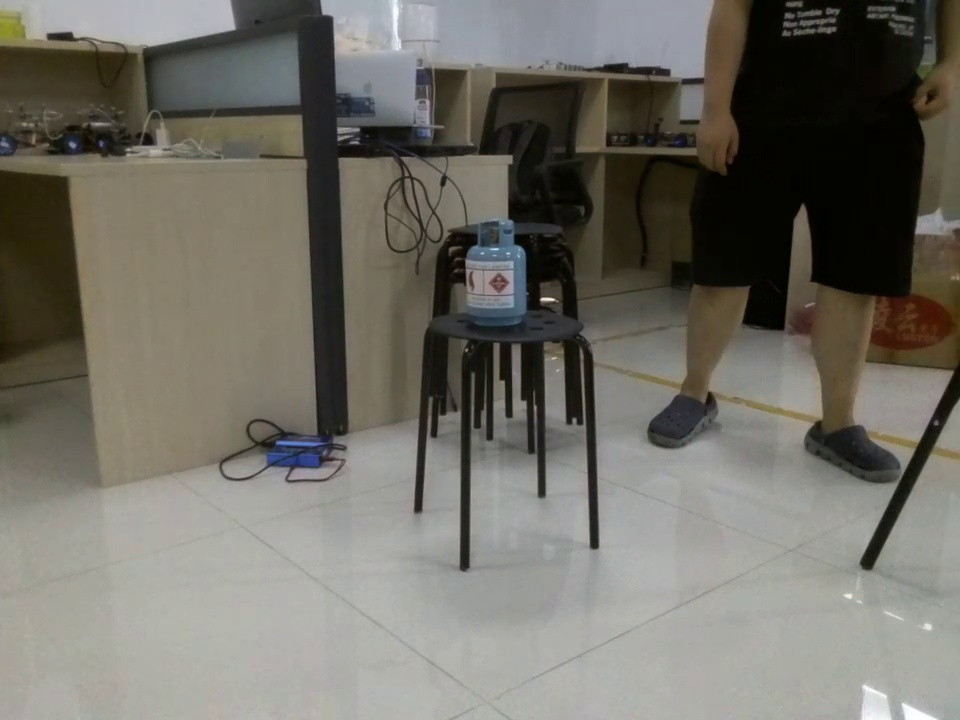gas tank: (458, 214, 534, 331)
